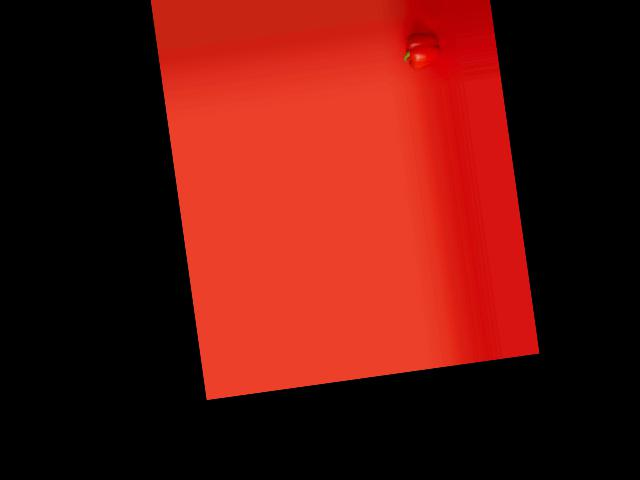bell_pepper: (398, 28, 445, 70)
